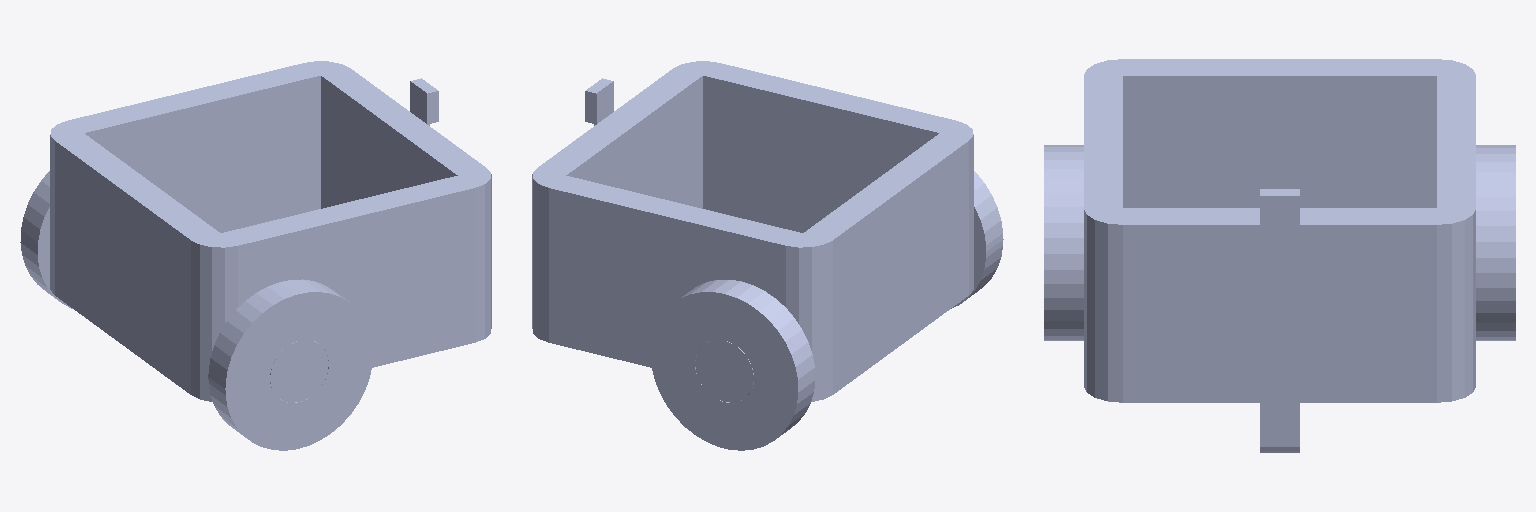
The robot description file, URDF, robot "Robothos":
<?xml version="1.0" encoding="utf-8"?>
<!-- This URDF was automatically created by SolidWorks to URDF Exporter! Originally created by [author] ([email redacted]) 
     Commit Version: 1.6.0-4-g7f85cfe  Build Version: 1.6.7995.38578
     For more information, please see http://wiki.ros.org/sw_urdf_exporter -->
<robot
  name="Robothos">
  <link
    name="base_link">
    <inertial>
      <origin
        xyz="-0.0054793288106294 2.22044604925031E-16 0.16112620717465"
        rpy="0 0 0" />
      <mass
        value="214.814323345553" />
      <inertia
        ixx="32.4352051215854"
        ixy="4.70506417266849E-15"
        ixz="-0.0916703954274556"
        iyy="31.1191399535227"
        iyz="-4.77995641936505E-15"
        izz="53.1488606049937" />
    </inertial>
    <visual>
      <origin
        xyz="0 0 0"
        rpy="0 0 0" />
      <geometry>
        <mesh
          filename="package://Robothos/meshes/base_link.STL" />
      </geometry>
      <material
        name="">
        <color
          rgba="0.792156862745098 0.819607843137255 0.933333333333333 1" />
      </material>
    </visual>
    <collision>
      <origin
        xyz="0 0 0"
        rpy="0 0 0" />
      <geometry>
        <mesh
          filename="package://Robothos/meshes/base_link.STL" />
      </geometry>
    </collision>
  </link>
  <link
    name="Wheel_left_Link">
    <inertial>
      <origin
        xyz="0.5 0 0"
        rpy="0 0 0" />
      <mass
        value="16.4933614313464" />
      <inertia
        ixx="0.312686643802609"
        ixy="1.99285111871448E-15"
        ixz="-7.88860905221012E-31"
        iyy="0.597884351886308"
        iyz="5.05961013827149E-18"
        izz="0.312686643802609" />
    </inertial>
    <visual>
      <origin
        xyz="0.5 0 0"
        rpy="0 0 0" />
      <geometry>
        <mesh
          filename="package://Robothos/meshes/Wheel_left_Link.STL" />
      </geometry>
      <material
        name="">
        <color
          rgba="0.792156862745098 0.819607843137255 0.933333333333333 1" />
      </material>
    </visual>
    <collision>
      <origin
        xyz="0.5 0 0"
        rpy="0 0 0" />
      <geometry>
        <mesh
          filename="package://Robothos/meshes/Wheel_left_Link.STL" />
      </geometry>
    </collision>
  </link>
  <joint
    name="Wheel_left_Joint"
    type="revolute">
    <origin
      xyz="-0.5 0 0"
      rpy="0 0 0" />
    <parent
      link="base_link" />
    <child
      link="Wheel_left_Link" />
    <axis
      xyz="0 -1 0" />
    <limit
      lower="0"
      upper="0"
      effort="30"
      velocity="30" />
  </joint>
  <link
    name="Wheel_Right_Link">
    <inertial>
      <origin
        xyz="0.5 0 0"
        rpy="0 0 0" />
      <mass
        value="16.4933614313464" />
      <inertia
        ixx="0.312686643802609"
        ixy="-3.44543386923911E-18"
        ixz="0"
        iyy="0.597884351886308"
        iyz="-4.86688591109368E-32"
        izz="0.312686643802609" />
    </inertial>
    <visual>
      <origin
        xyz="0.5 0 0"
        rpy="0 0 0" />
      <geometry>
        <mesh
          filename="package://Robothos/meshes/Wheel_Right_Link.STL" />
      </geometry>
      <material
        name="">
        <color
          rgba="0.792156862745098 0.819607843137255 0.933333333333333 1" />
      </material>
    </visual>
    <collision>
      <origin
        xyz="0.5 0 0"
        rpy="0 0 0" />
      <geometry>
        <mesh
          filename="package://Robothos/meshes/Wheel_Right_Link.STL" />
      </geometry>
    </collision>
  </link>
  <joint
    name="Wheel_Right_Joint"
    type="revolute">
    <origin
      xyz="-0.5 0 0"
      rpy="0 0 0" />
    <parent
      link="base_link" />
    <child
      link="Wheel_Right_Link" />
    <axis
      xyz="0 1 0" />
    <limit
      lower="0"
      upper="0"
      effort="30"
      velocity="30" />
  </joint>
  <link
    name="Raser_Link">
    <inertial>
      <origin
        xyz="0.520249999999986 -4.88498130835069E-15 0.491666666666686"
        rpy="0 0 0" />
      <mass
        value="0.359999999999999" />
      <inertia
        ixx="0.000874999999999992"
        ixy="-9.1569505478691E-19"
        ixz="-4.12499999999913E-05"
        iyy="0.000611157499999991"
        iyz="3.46021933140531E-19"
        izz="0.000336157499999998" />
    </inertial>
    <visual>
      <origin
        xyz="0 0 0"
        rpy="0 0 0" />
      <geometry>
        <mesh
          filename="package://Robothos/meshes/Raser_Link.STL" />
      </geometry>
      <material
        name="">
        <color
          rgba="0.792156862745098 0.819607843137255 0.933333333333333 1" />
      </material>
    </visual>
    <collision>
      <origin
        xyz="0 0 0"
        rpy="0 0 0" />
      <geometry>
        <mesh
          filename="package://Robothos/meshes/Raser_Link.STL" />
      </geometry>
    </collision>
  </link>
  <joint
    name="Raser_Joint"
    type="fixed">
    <origin
      xyz="0 0 0"
      rpy="0 0 0" />
    <parent
      link="base_link" />
    <child
      link="Raser_Link" />
    <axis
      xyz="0 0 0" />
  </joint>
</robot>

--- Facts derived from the render (not from the file) ---
The picture shows the robot from 3 angles, left to right: view 1: azimuth 30°, elevation 25°; view 2: azimuth 150°, elevation 25°; view 3: azimuth 270°, elevation 25°; orthographic projection.
Robot: Robothos — 4 links, 3 joints (2 revolute, 1 fixed); root link base_link; default pose: every joint at zero.
Visible links, largest first — view 1: base_link, Wheel_Right_Link, Wheel_left_Link; view 2: base_link, Wheel_left_Link, Wheel_Right_Link; view 3: base_link, Wheel_left_Link, Wheel_Right_Link, Raser_Link.
Link boxes in pixels (x1=…): base_link: x1=50, y1=61, x2=491, y2=402; Wheel_Right_Link: x1=208, y1=279, x2=372, y2=450; Wheel_left_Link: x1=20, y1=171, x2=72, y2=308; base_link: x1=532, y1=61, x2=973, y2=402; Wheel_left_Link: x1=651, y1=280, x2=815, y2=450; Wheel_Right_Link: x1=951, y1=171, x2=1003, y2=308; base_link: x1=1084, y1=59, x2=1475, y2=452; Wheel_left_Link: x1=1476, y1=145, x2=1515, y2=340; Wheel_Right_Link: x1=1044, y1=145, x2=1083, y2=340; Raser_Link: x1=1260, y1=190, x2=1299, y2=261.
Bounding box of the posed robot: 1.04 × 1.2 × 0.75 m (x, y, z).
4 mesh visuals loaded from 4 distinct referenced files (4 binary STL).
